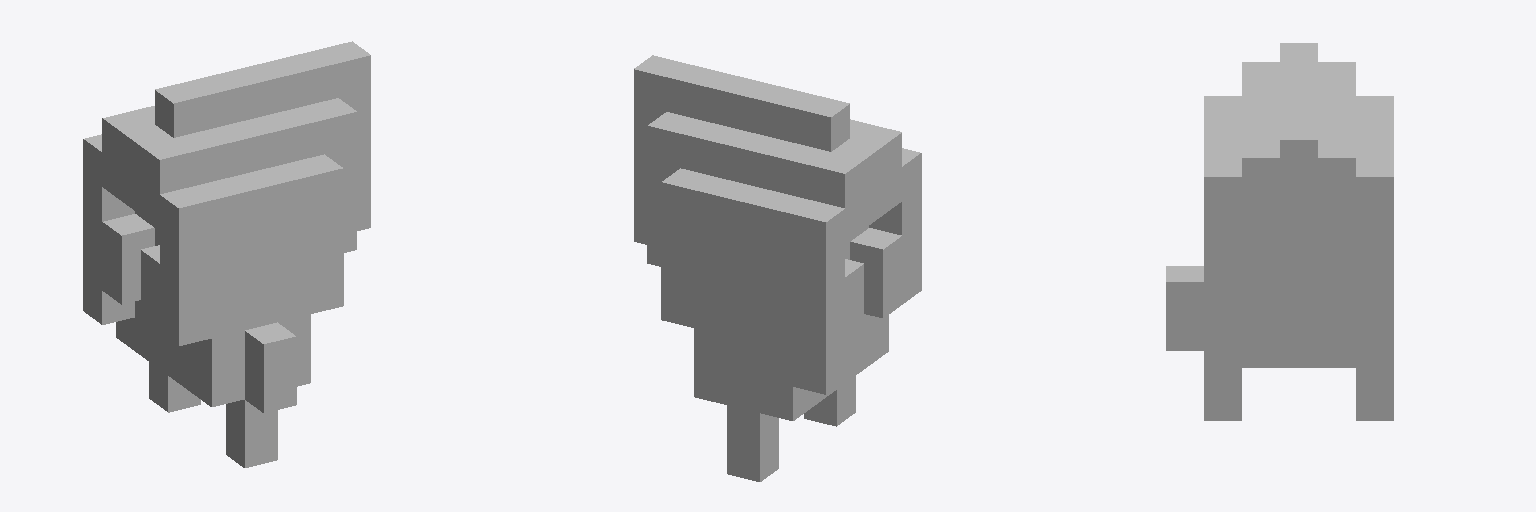
The model's file is SwordPlayer - bodyOnly.obj.
3 views of the same model, side by side, from view 1: azimuth 30°, elevation 25°; view 2: azimuth 150°, elevation 25°; view 3: azimuth 270°, elevation 25° (orthographic).
Parts seen in each view (by area): view 1: object 1; view 2: object 1; view 3: object 1.
Part boxes in pixels (x1,y1,x2,y2): object 1: (83, 41, 370, 467); object 1: (634, 55, 921, 481); object 1: (1166, 43, 1393, 420).
Size of the model in its own units: 0.7 by 1 by 0.6.